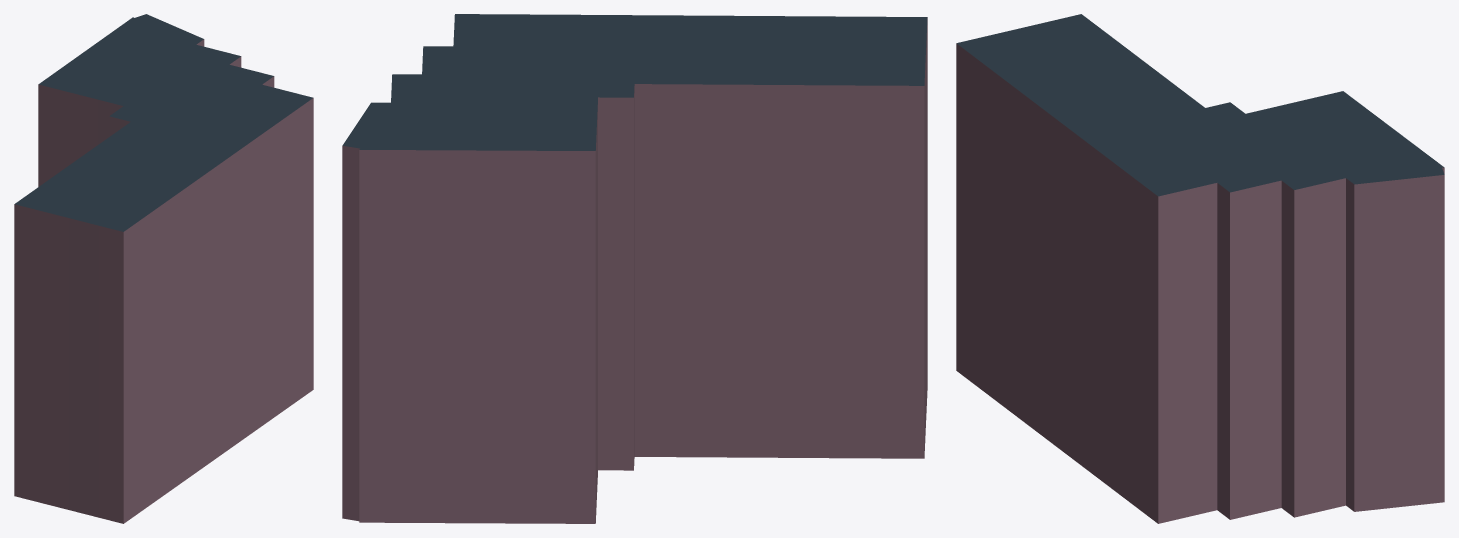
Rendered from nyc-1015265-0.glb.
The picture shows the model from 3 angles, left to right: view 1: azimuth 30°, elevation 25°; view 2: azimuth 150°, elevation 25°; view 3: azimuth 270°, elevation 25°; orthographic projection. The views are drawn at different scales.
Visible parts, largest first — view 1: nyc-1015265-0; view 2: nyc-1015265-0; view 3: nyc-1015265-0.
Boxes of the visible parts, <box> form: nyc-1015265-0: <box>14,14,313,523</box>; nyc-1015265-0: <box>342,14,927,523</box>; nyc-1015265-0: <box>956,14,1444,523</box>.
Size of the model in its own units: 91.49 by 76.53 by 103.
